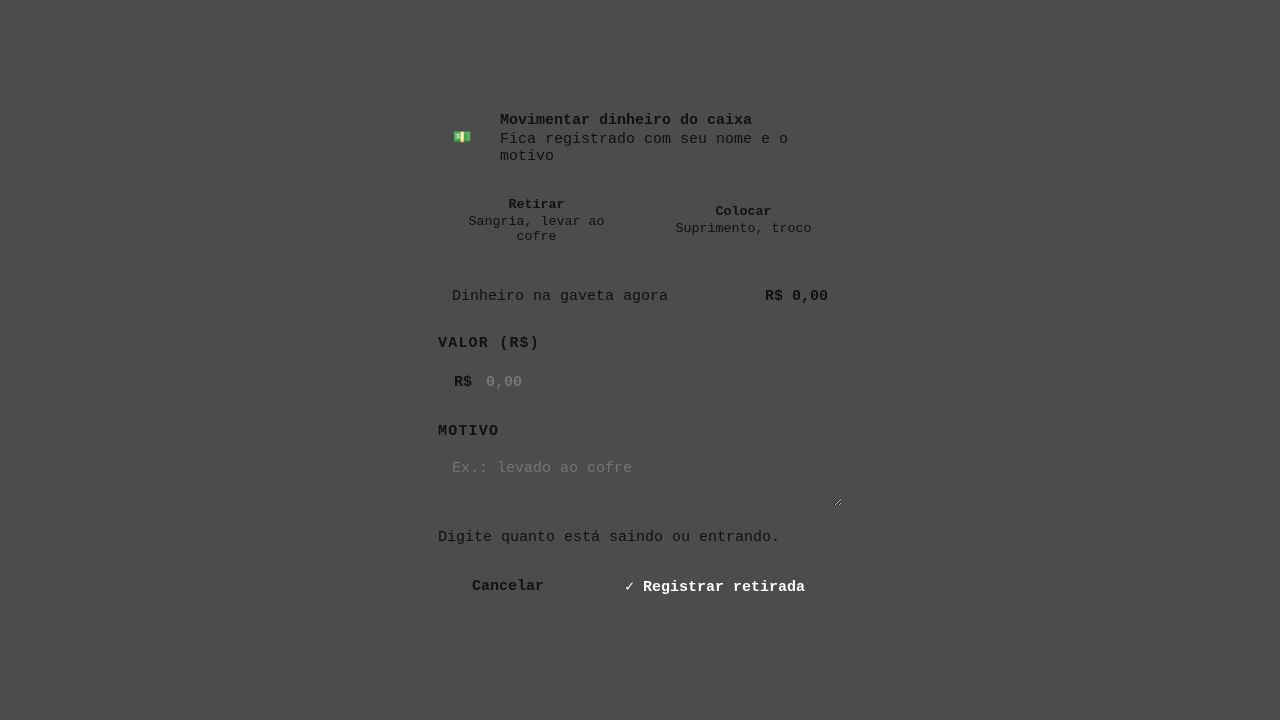
Test: MovimentoCaixaModal, o botão diz por que não dá para confirmar › gaveta vazia bloqueia sangria mas não bloqueia suprimento
Type "50" into the number field with class "movimento-caixa__input". click: (640, 382)
box: [438,360,842,404]
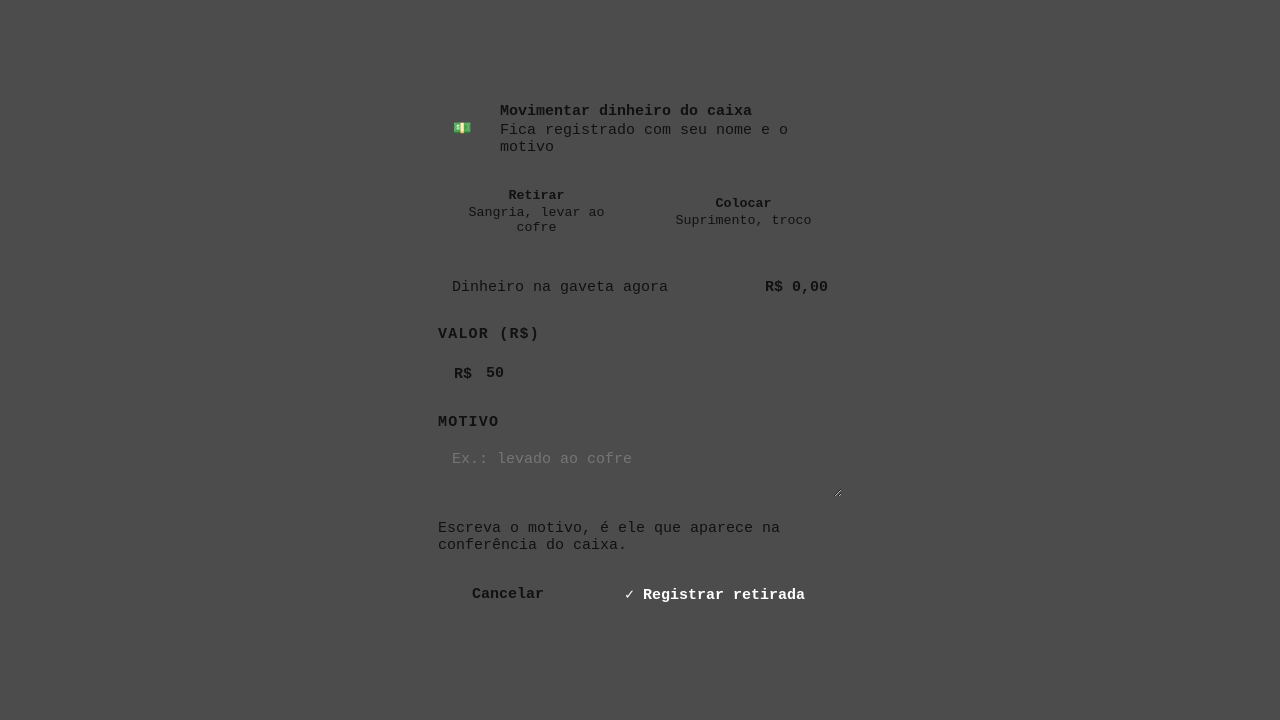
Type "reforço de troco" into the text box with class "movimento-caixa__textarea". click: (640, 468)
box: [438,439,842,497]
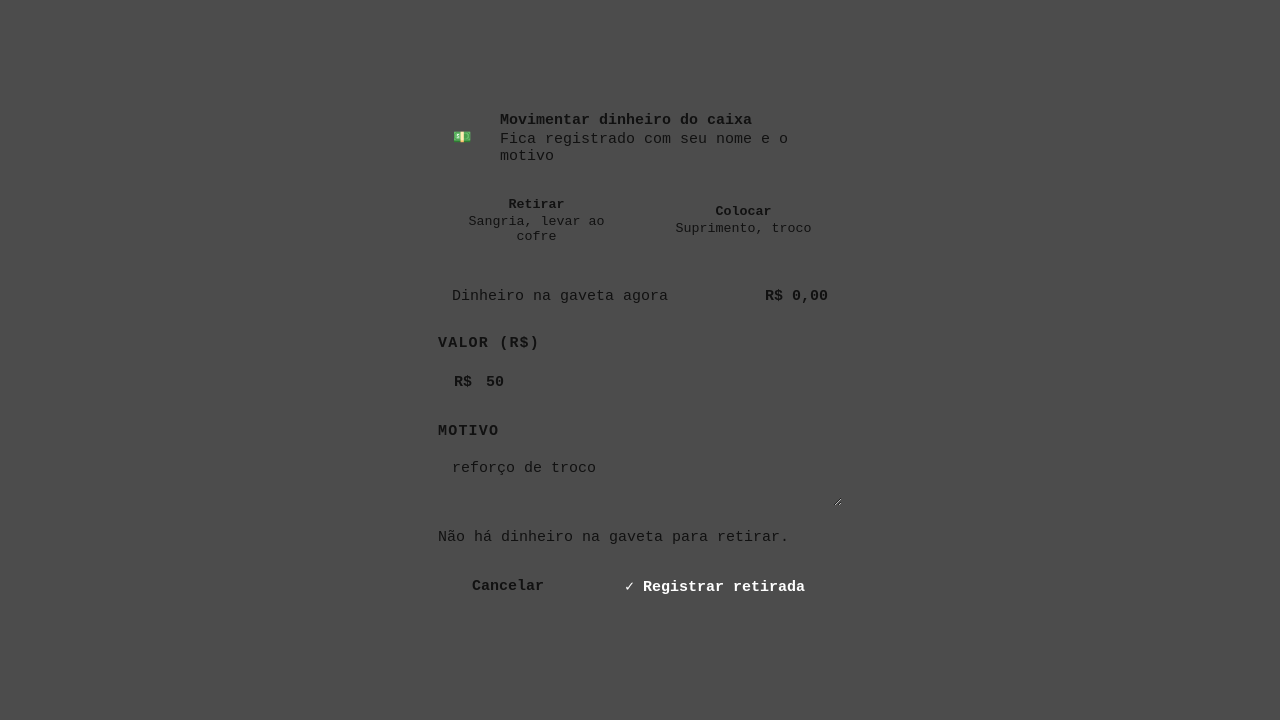
Expected: the button with class "movimento-caixa__botao-confirmar" is disabled, [588,564,842,608]
Expected: the text with class "movimento-caixa__pendencia" shows "Não há dinheiro na gaveta", [438,528,789,546]
Click the button with class "movimento-caixa__tipo" showing "Colocar Suprimento, troco". click: (744, 220)
box: [645,182,842,258]
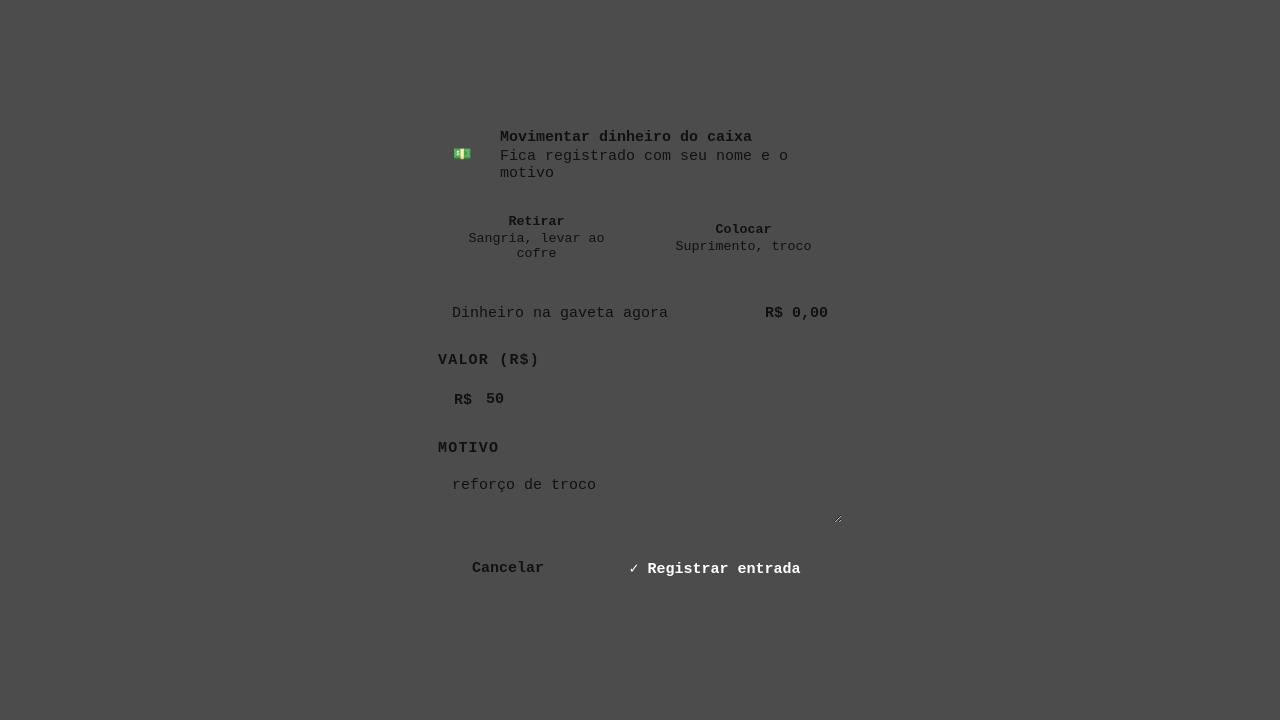
Expected: the button with class "movimento-caixa__botao-confirmar" is enabled, [588,546,842,591]
